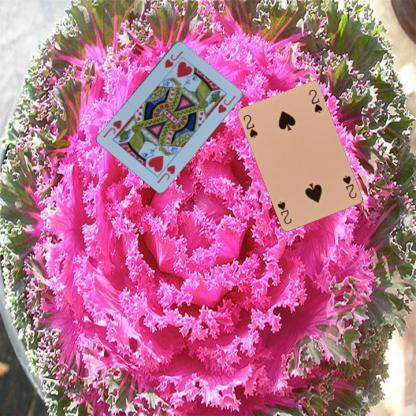2s: (340, 173, 358, 200), (241, 112, 259, 139)
Jh: (154, 162, 177, 184), (162, 48, 184, 69)
